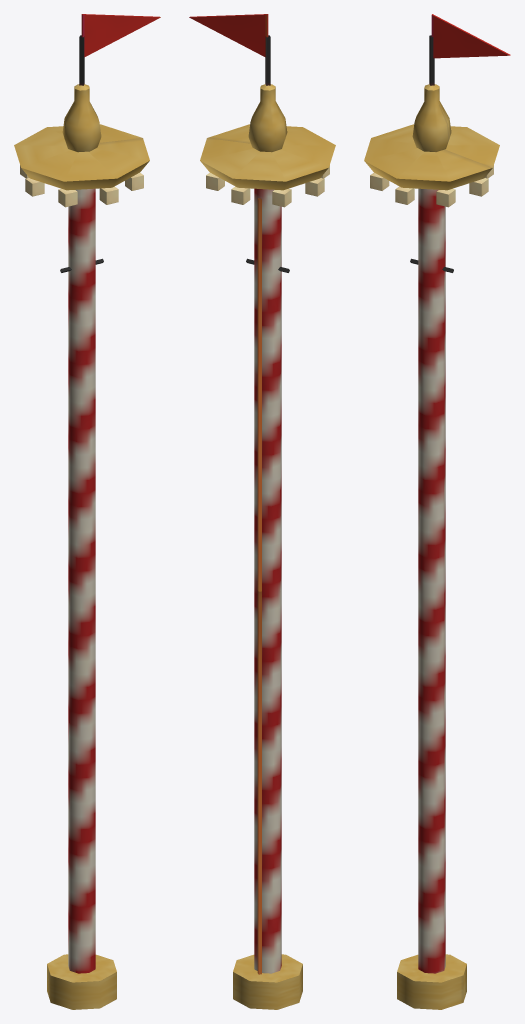
Rendered from lamp_carnival.fbx.
3 views of the same model, side by side, from view 1: azimuth 30°, elevation 25°; view 2: azimuth 150°, elevation 25°; view 3: azimuth 330°, elevation 25° (orthographic).
Parts seen in each view (by area): view 1: lamp_carnival, lamp_carnival_bulbs; view 2: lamp_carnival, lamp_carnival_bulbs; view 3: lamp_carnival, lamp_carnival_bulbs.
Part boxes in pixels (box(x1,y1,x2,y2)): lamp_carnival: box(14, 14, 160, 1009); lamp_carnival_bulbs: box(20, 165, 143, 207); lamp_carnival: box(189, 14, 335, 1009); lamp_carnival_bulbs: box(206, 165, 329, 207); lamp_carnival: box(364, 14, 510, 1009); lamp_carnival_bulbs: box(370, 165, 493, 207).
Bounding box in the file's own units: 0.8 × 5.38 × 0.7.
1 material, 1 textured.
